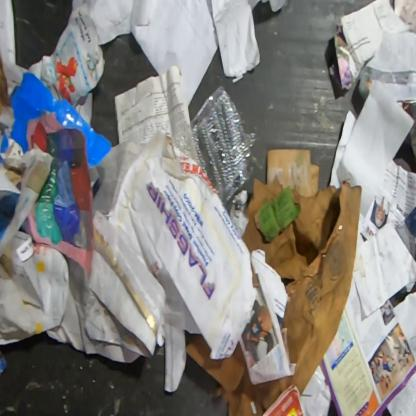cardboard: (185, 175, 363, 415), (0, 71, 112, 168), (266, 148, 320, 196), (0, 57, 11, 119)
rigid_plastic: (173, 86, 255, 206)
